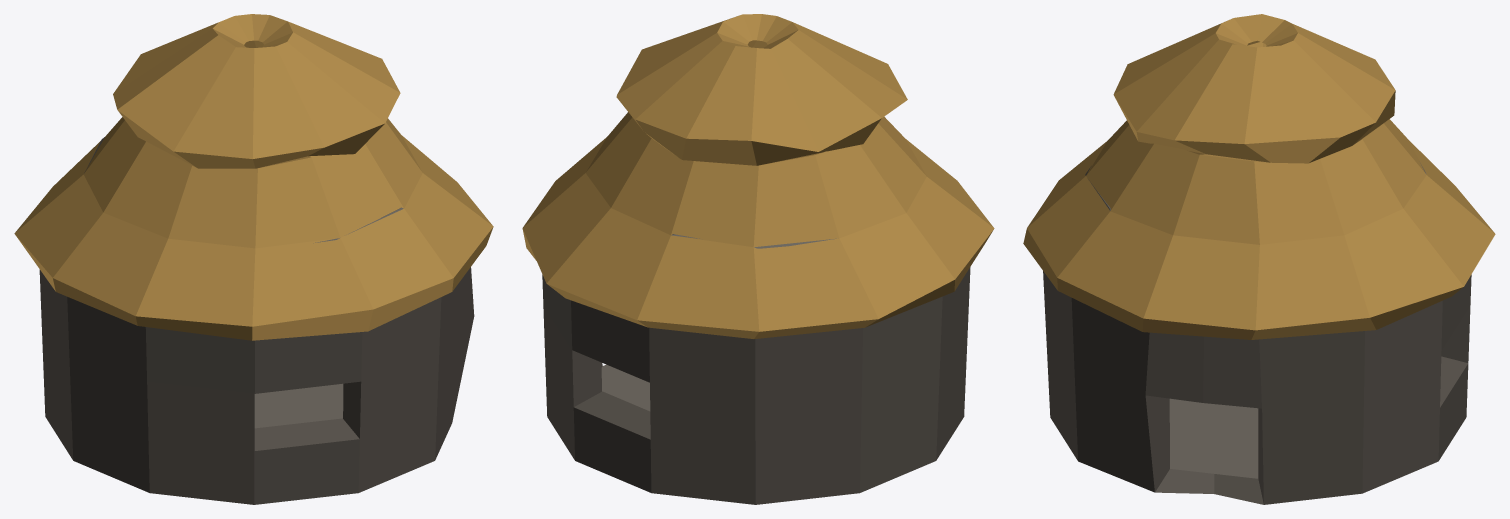
File: forest_people_house_12.fbx
The picture shows the model from 3 angles, left to right: view 1: azimuth 30°, elevation 25°; view 2: azimuth 150°, elevation 25°; view 3: azimuth 270°, elevation 25°; orthographic projection.
Visible parts, largest first — view 1: Cylinder; view 2: Cylinder; view 3: Cylinder.
Part boxes in pixels (bbox=[...]): Cylinder: bbox=[14, 14, 493, 504]; Cylinder: bbox=[522, 14, 994, 504]; Cylinder: bbox=[1023, 14, 1495, 504].
Bounding box in the file's own units: 410 × 385 × 418.
